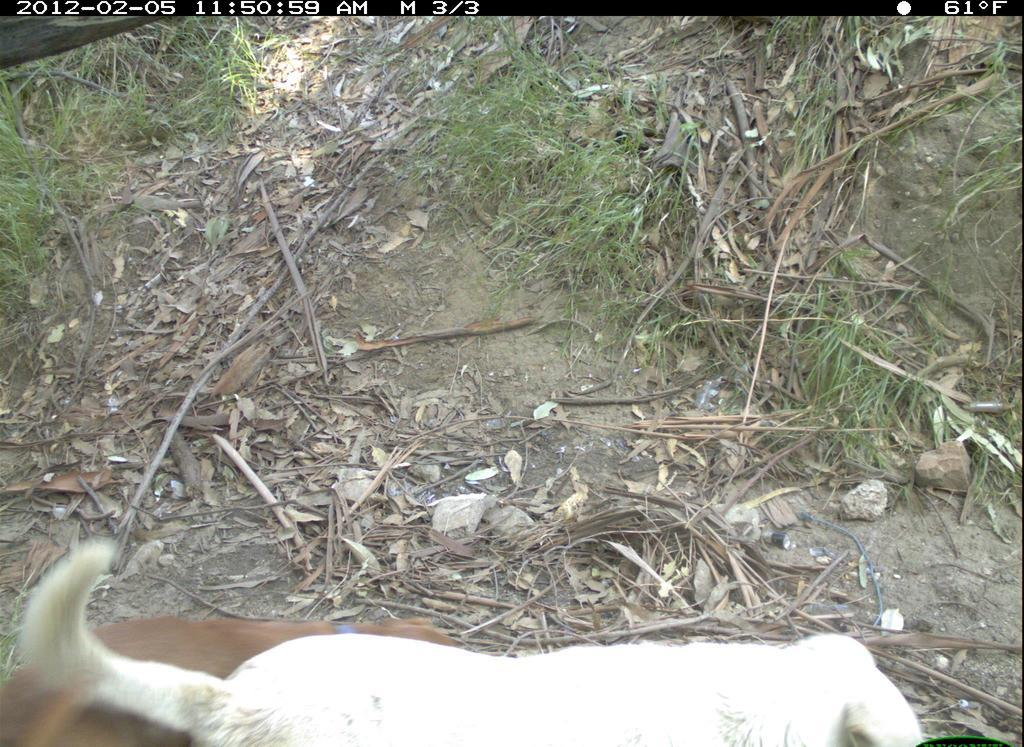dog: (5, 526, 931, 747), (6, 612, 445, 747)
